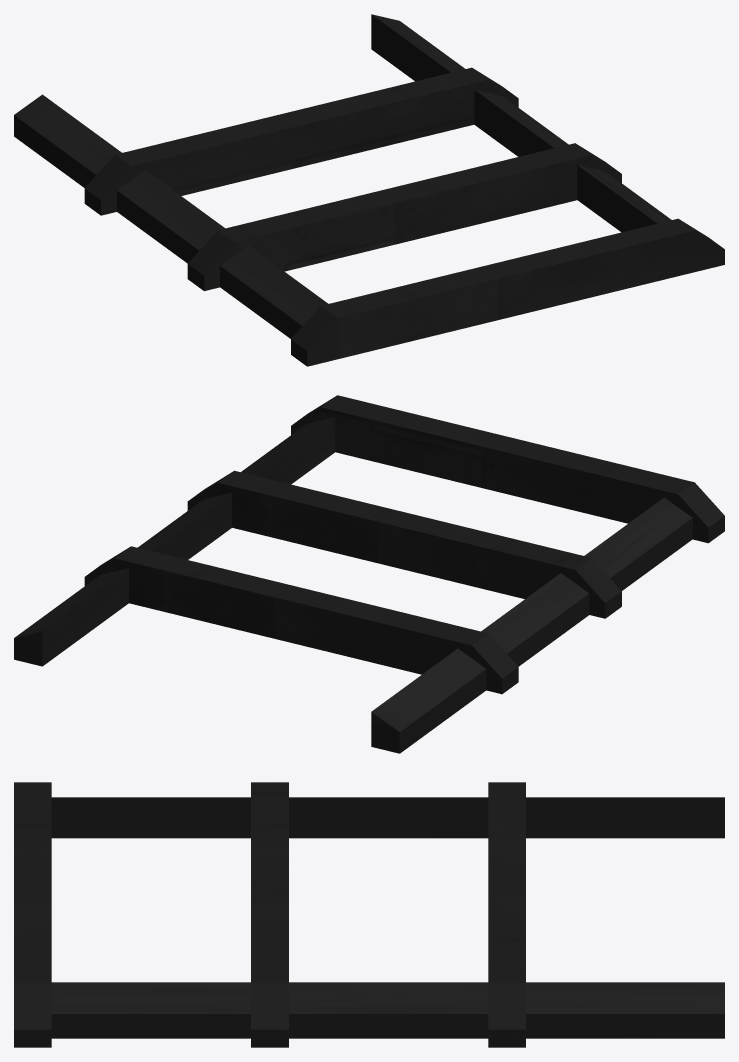
File: train-rails-block.fbx
3 renders of one model, top to bottom at view 1: azimuth 30°, elevation 25°; view 2: azimuth 150°, elevation 25°; view 3: azimuth 270°, elevation 25°, orthographic. The views are drawn at different scales.
Visible parts, largest first — view 1: Cube.062; view 2: Cube.062; view 3: Cube.062.
Boxes of the visible parts, left/top/right/bottom form: Cube.062: left=14, top=14, right=724, bottom=366; Cube.062: left=14, top=395, right=724, bottom=753; Cube.062: left=14, top=782, right=724, bottom=1047.
Size of the model in its own units: 273 by 25.99 by 351.
